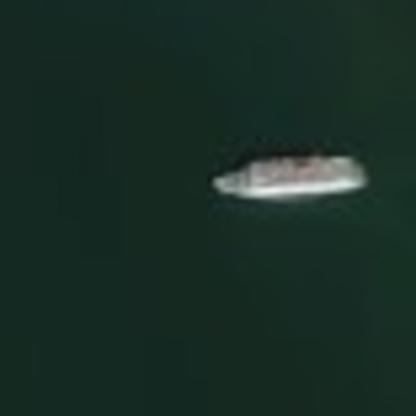ship: (198, 146, 376, 208)
